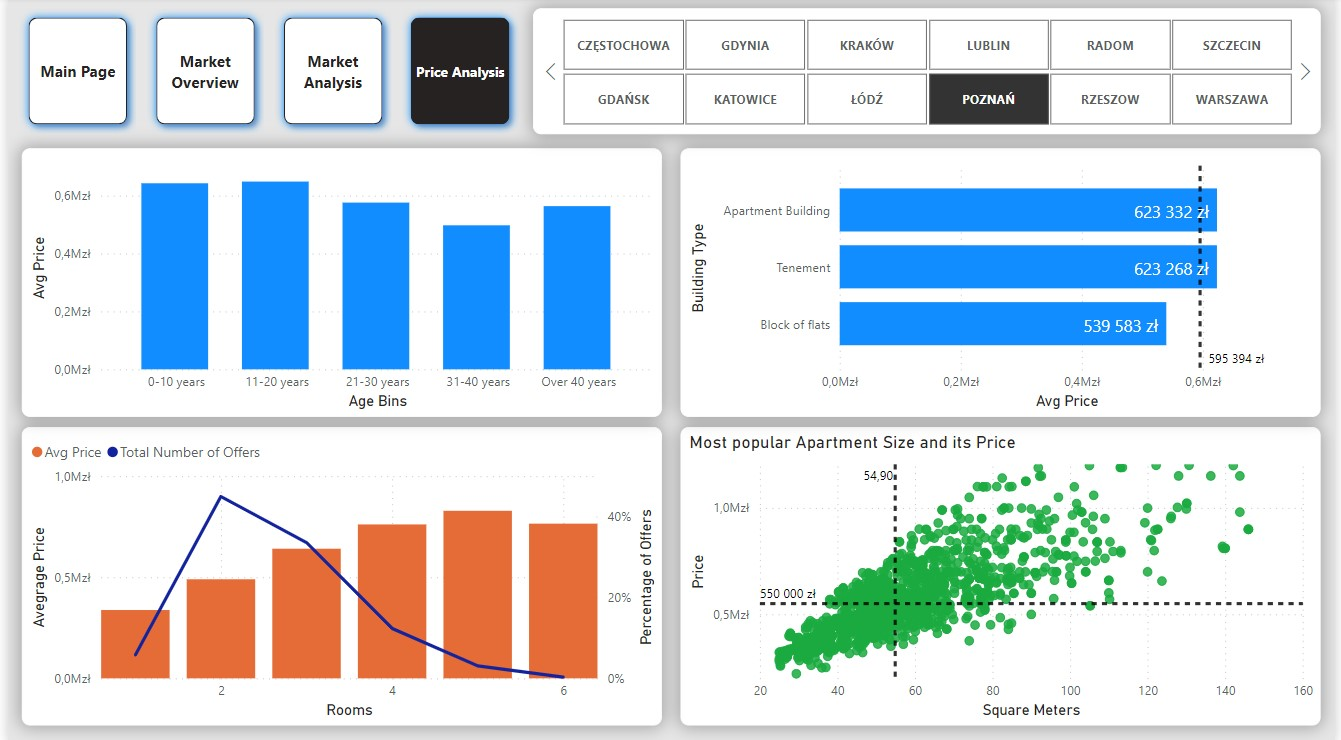

Layout of this report page (visuals, bound fields, positions):
{"tool":"powerbi","page":{"name":"Price Analysis","canvas":[1280,720],"ordinal":3},"visuals":[{"type":"scatterChart","title":"Most popular Apartment Size and its Price","fields":{"X":["_Measures.Avg Square Meters"],"Category":["Apartments_data.Index"],"Series":["DIM_City.city"],"Y":["_Measures.Avg Price"]},"box":[648.8,414.9,617.5,288.2],"z":0},{"type":"lineStackedColumnComboChart","title":"Average Price and Number of Offers by Number of Rooms","fields":{"Category":["Apartments_data.rooms"],"Y":["_Measures.Avg Price"],"Y2":["_Measures.Total Number of Offers"]},"box":[13.3,414.9,617.5,288.2],"z":1000},{"type":"columnChart","title":"Average Price by Building Age","fields":{"Category":["Apartments_data.Age Bins","FACT_Apartments_data.Age of Building"],"Y":["_Measures.Avg Price"]},"box":[13.3,145.9,617.5,259.3],"z":2000},{"type":"clusteredBarChart","title":"Average Price by Building Type","fields":{"Category":["DIM_Building_types.building_type"],"Y":["_Measures.Avg Price"]},"box":[648.8,145.9,617.5,259.3],"z":3000},{"type":"slicer","fields":{"Values":["DIM_City.city"]},"box":[506.2,11.2,760,121.2],"z":4000},{"type":"pageNavigator","box":[10.9,10.9,483.6,121.8],"z":6000}]}

Visuals, with their boxes in screenshot pixels (x1, y1, x2, y2), scaled from the page's 1280x720 canvas onto the 1341x740 screenshot:
"Most popular Apartment Size and its Price" scatterChart: rect(680, 426, 1327, 723)
"Average Price and Number of Offers by Number of Rooms" lineStackedColumnComboChart: rect(14, 426, 661, 723)
"Average Price by Building Age" columnChart: rect(14, 150, 661, 416)
"Average Price by Building Type" clusteredBarChart: rect(680, 150, 1327, 416)
slicer - DIM_City.city: rect(530, 12, 1327, 136)
pageNavigator: rect(11, 11, 518, 136)
